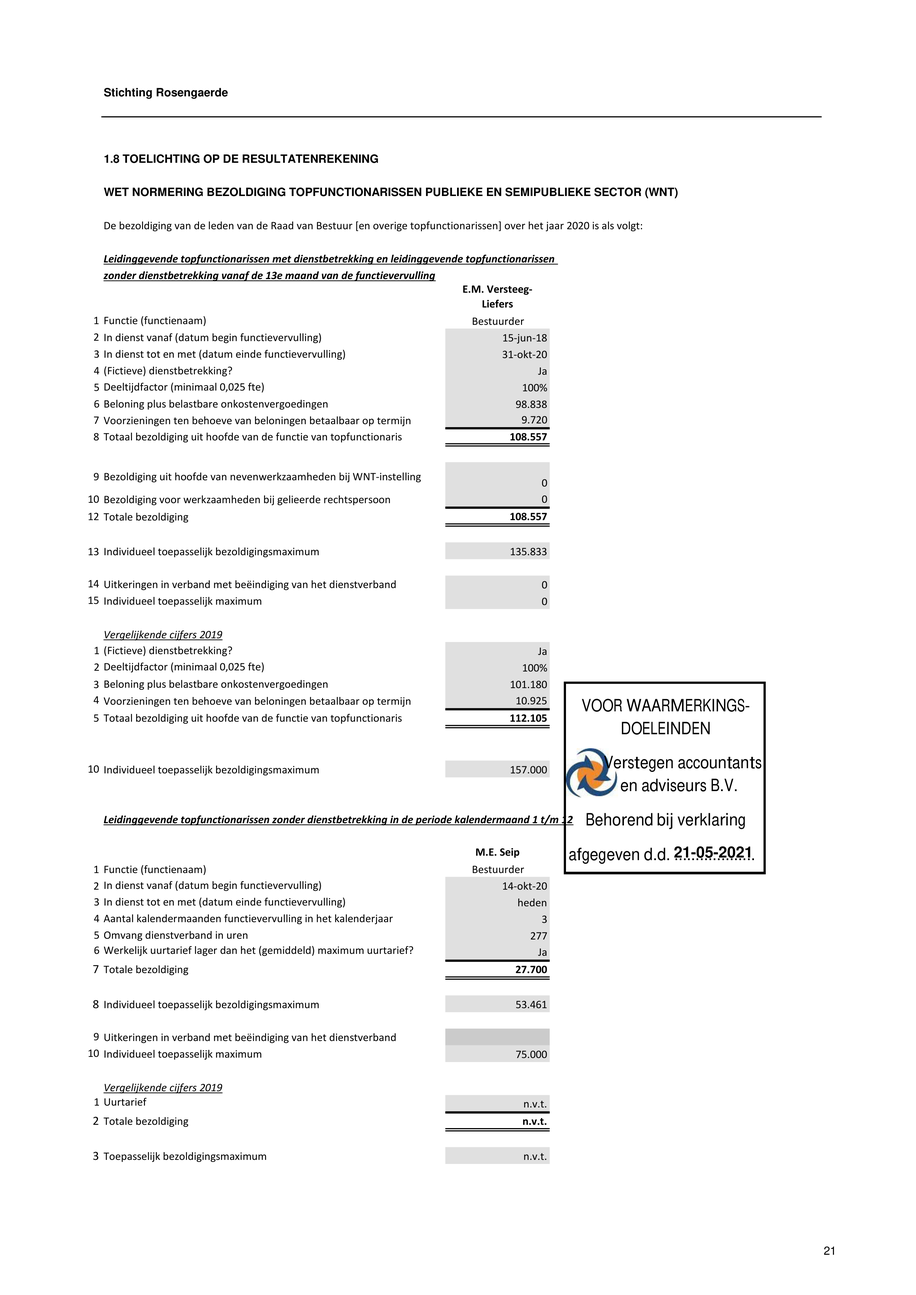coulmn: (82, 311, 424, 734), (87, 859, 389, 1174), (435, 282, 561, 782), (445, 842, 556, 1165)
